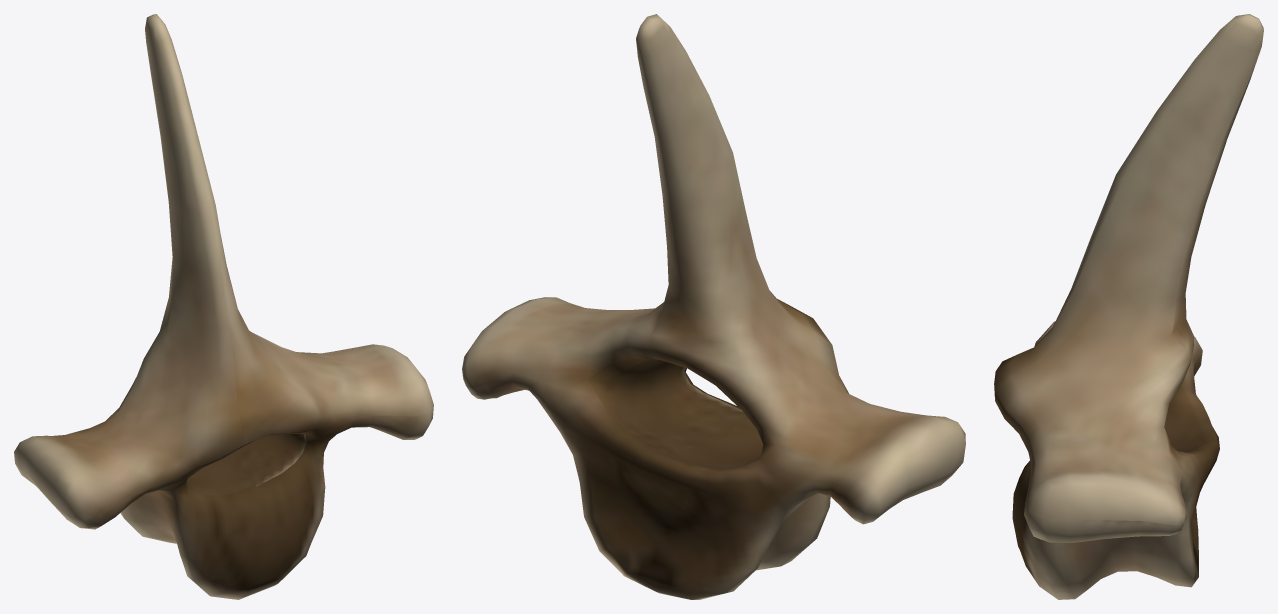
Rendered from Thoracic_Vertebrae1.glb.
The picture shows the model from 3 angles, left to right: view 1: azimuth 30°, elevation 25°; view 2: azimuth 150°, elevation 25°; view 3: azimuth 270°, elevation 25°; orthographic projection. The views are drawn at different scales.
Parts seen in each view (by area): view 1: Horse_low:SelSet_43Merged_L_Frt_Sesamoid_Bones_2; view 2: Horse_low:SelSet_43Merged_L_Frt_Sesamoid_Bones_2; view 3: Horse_low:SelSet_43Merged_L_Frt_Sesamoid_Bones_2.
Part boxes in pixels (box(x1,y1,x2,y2)): Horse_low:SelSet_43Merged_L_Frt_Sesamoid_Bones_2: box(14, 14, 433, 599); Horse_low:SelSet_43Merged_L_Frt_Sesamoid_Bones_2: box(462, 14, 965, 599); Horse_low:SelSet_43Merged_L_Frt_Sesamoid_Bones_2: box(994, 14, 1263, 599).
Bounding box in the file's own units: 0.1466 × 0.1951 × 0.0831.
1 material, 1 textured.
